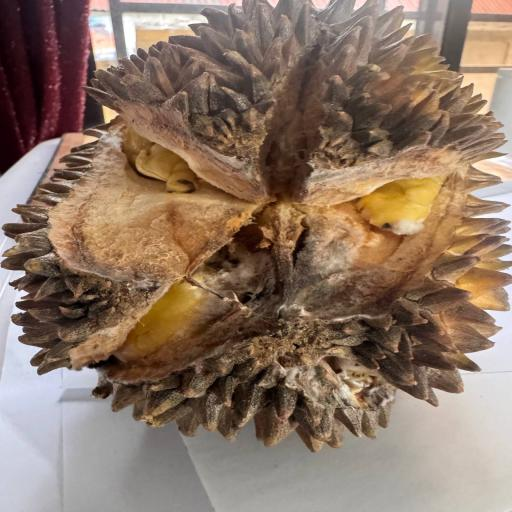mold: (126, 211, 456, 444)
rot: (0, 0, 511, 465)
